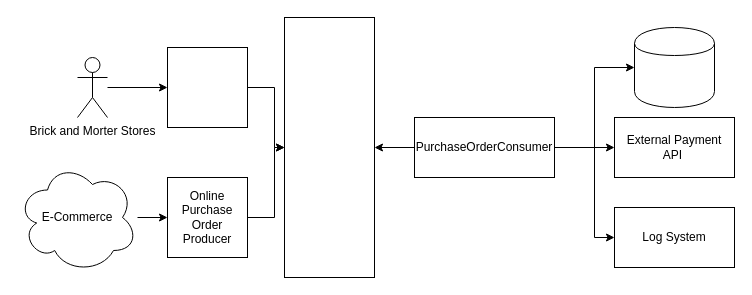
Image size: 752x295. Some labels were removed from this diagram. Here are the shapes that lost their labels. From the top down, the centre of each, then its label:
point 207,87: Offline Purchase Order Producer
point 674,67: Payments Database (Postgres)
point 329,147: Purchase Order Event Bus (Kafka Topics Online / Offline)
